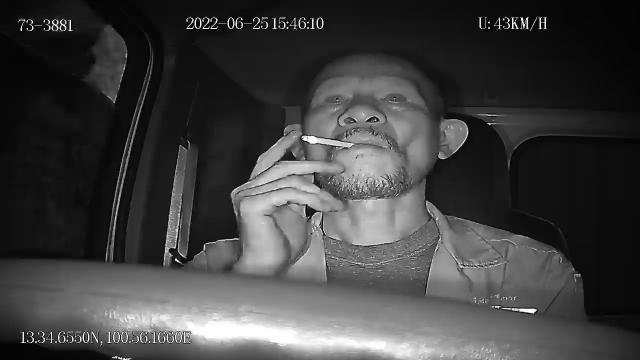SafeDriving: (376, 87, 414, 112)
Smoking: (302, 134, 354, 150)
